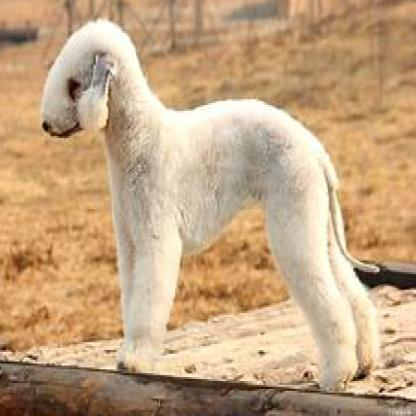dog: (41, 12, 384, 394)
